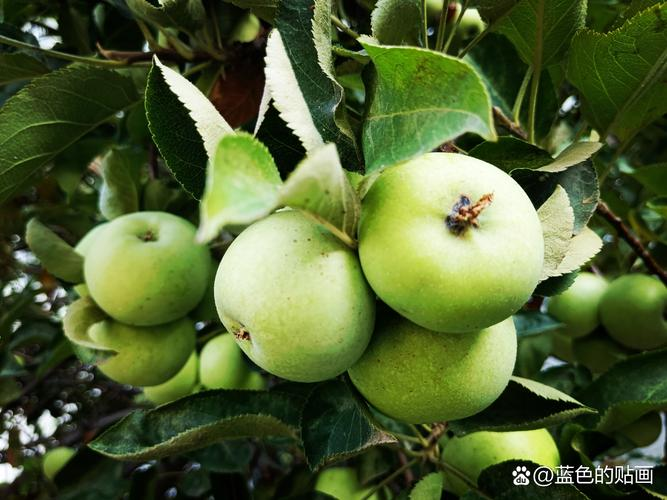unripe: (353, 156, 559, 333), (198, 209, 379, 381), (337, 265, 531, 420), (79, 205, 214, 332), (64, 305, 194, 392)
